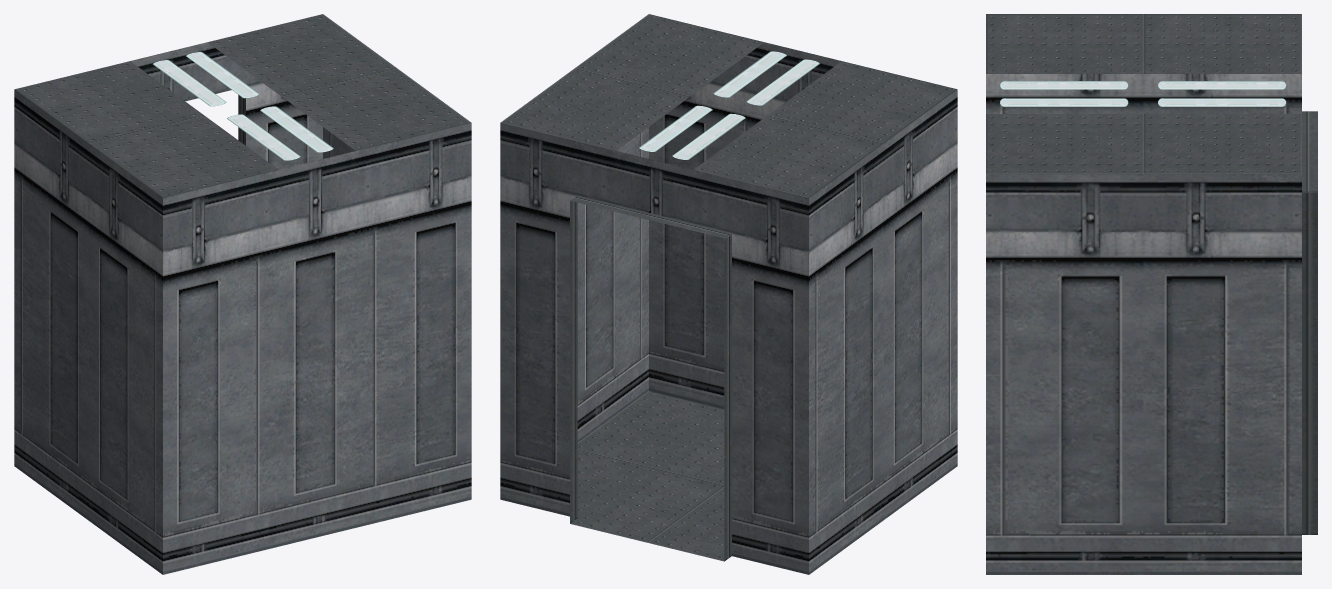
Rendered from mun_all_military_tower_impl_guard_s01_r1_spawn_mesh_r1.fbx.
3 views of the same model, side by side, from view 1: azimuth 30°, elevation 25°; view 2: azimuth 150°, elevation 25°; view 3: azimuth 270°, elevation 25° (orthographic). The views are drawn at different scales.
Parts seen in each view (by area): view 1: mesh_node; view 2: mesh_node; view 3: mesh_node.
Part boxes in pixels (x1,y1,x2,y2): mesh_node: (14,14,471,574); mesh_node: (500,14,957,574); mesh_node: (986,14,1317,574).
Bounding box in the file's own units: 3 × 3.5 × 2.62.
